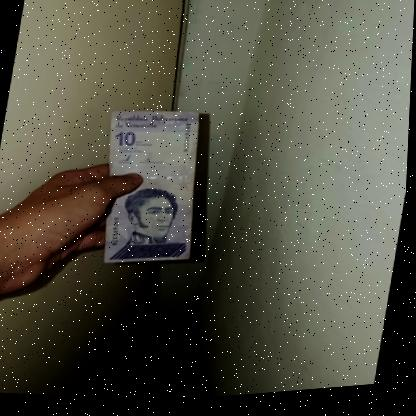ten-front-vef: (86, 104, 217, 276)
